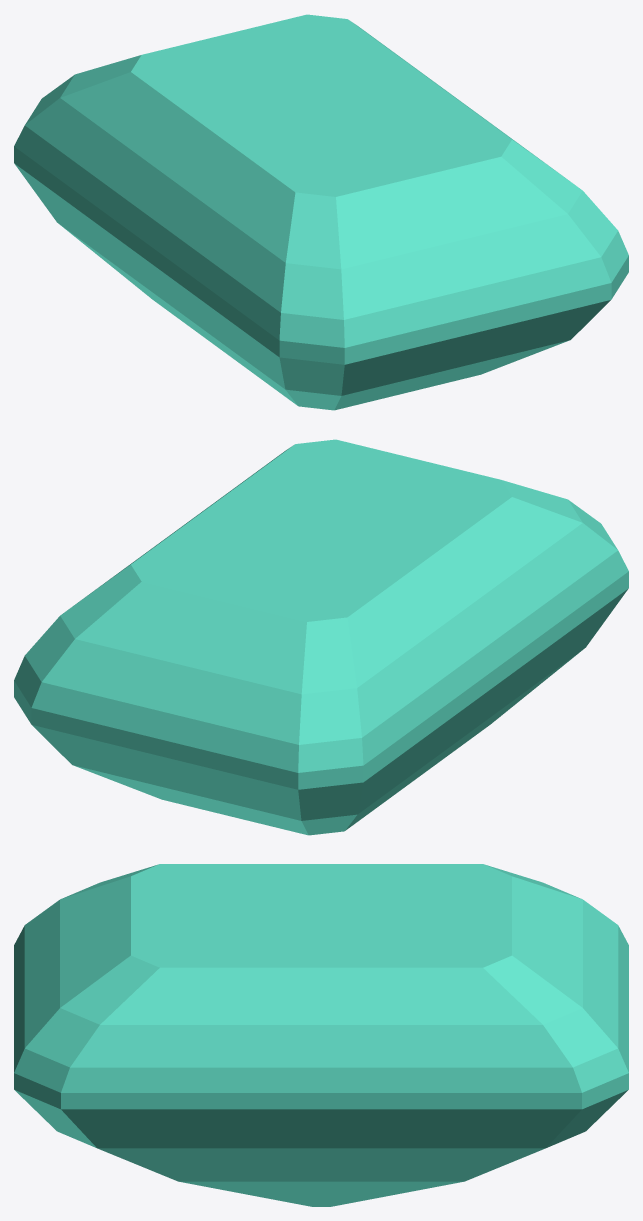
Rendered from emerald.glb.
The picture shows the model from 3 angles, top to bottom: view 1: azimuth 30°, elevation 25°; view 2: azimuth 150°, elevation 25°; view 3: azimuth 270°, elevation 25°; orthographic projection.
Visible parts, largest first — view 1: Prism_Brilliant; view 2: Prism_Brilliant; view 3: Prism_Brilliant.
Part boxes in pixels (x1=…): Prism_Brilliant: x1=14, y1=14, x2=628, y2=410; Prism_Brilliant: x1=14, y1=439, x2=628, y2=835; Prism_Brilliant: x1=14, y1=864, x2=628, y2=1206.
Size of the model in its own units: 1.52 by 1.22 by 2.36.
